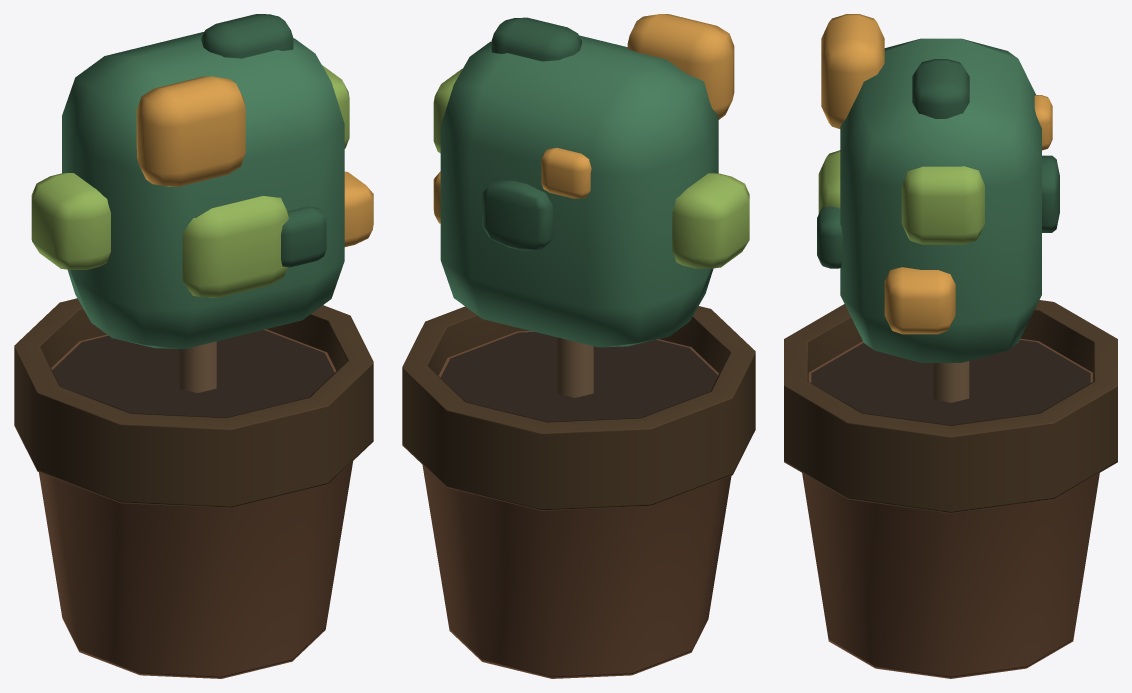
Rendered from Planta.fbx.
The picture shows the model from 3 angles, left to right: view 1: azimuth 30°, elevation 25°; view 2: azimuth 150°, elevation 25°; view 3: azimuth 270°, elevation 25°; orthographic projection. The views are drawn at different scales.
Parts seen in each view (by area): view 1: Planta; view 2: Planta; view 3: Planta.
Boxes of the visible parts, box(x1,y1,x2,y2) form: Planta: box(14, 14, 373, 678); Planta: box(402, 14, 755, 678); Planta: box(784, 14, 1117, 678).
Size of the model in its own units: 0.6075 by 1.1 by 0.5766.
